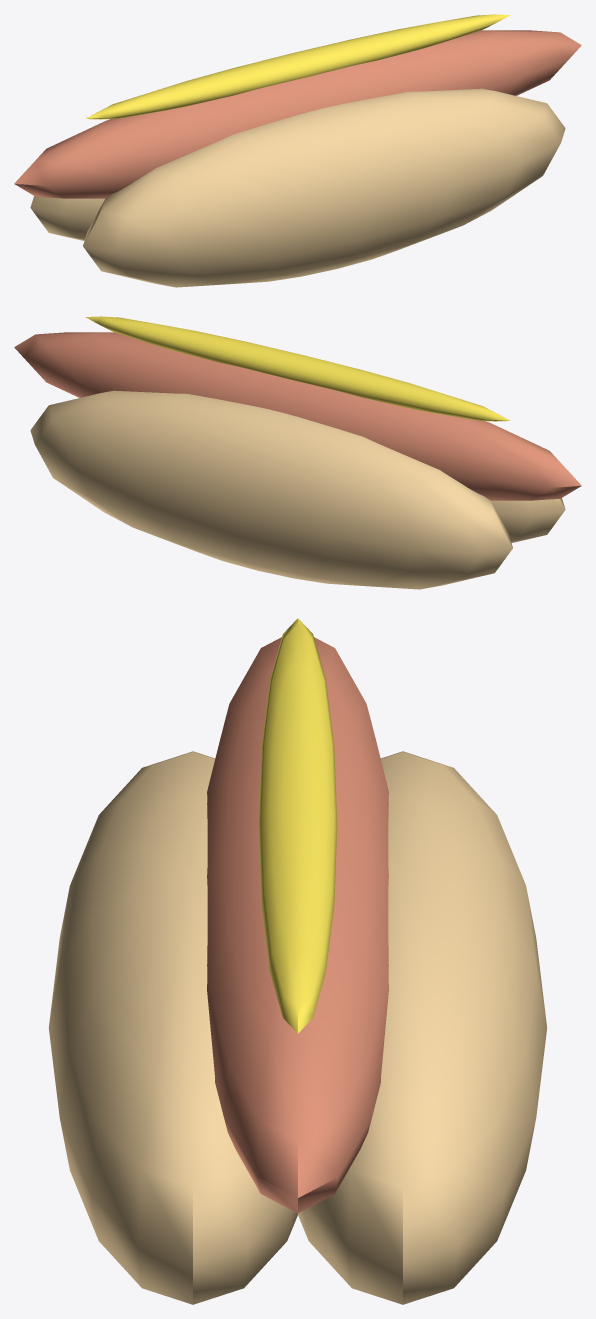
The model's file is Hot Dog.fbx.
The picture shows the model from 3 angles, top to bottom: view 1: azimuth 30°, elevation 25°; view 2: azimuth 150°, elevation 25°; view 3: azimuth 270°, elevation 25°; orthographic projection. The views are drawn at different scales.
Visible parts, largest first — view 1: Hot Dog; view 2: Hot Dog; view 3: Hot Dog.
Part boxes in pixels (<box>): Hot Dog: <box>14,14,581,287</box>; Hot Dog: <box>14,316,581,589</box>; Hot Dog: <box>48,618,547,1304</box>.
Bounding box in the file's own units: 0.2 × 0.064 × 0.076.
